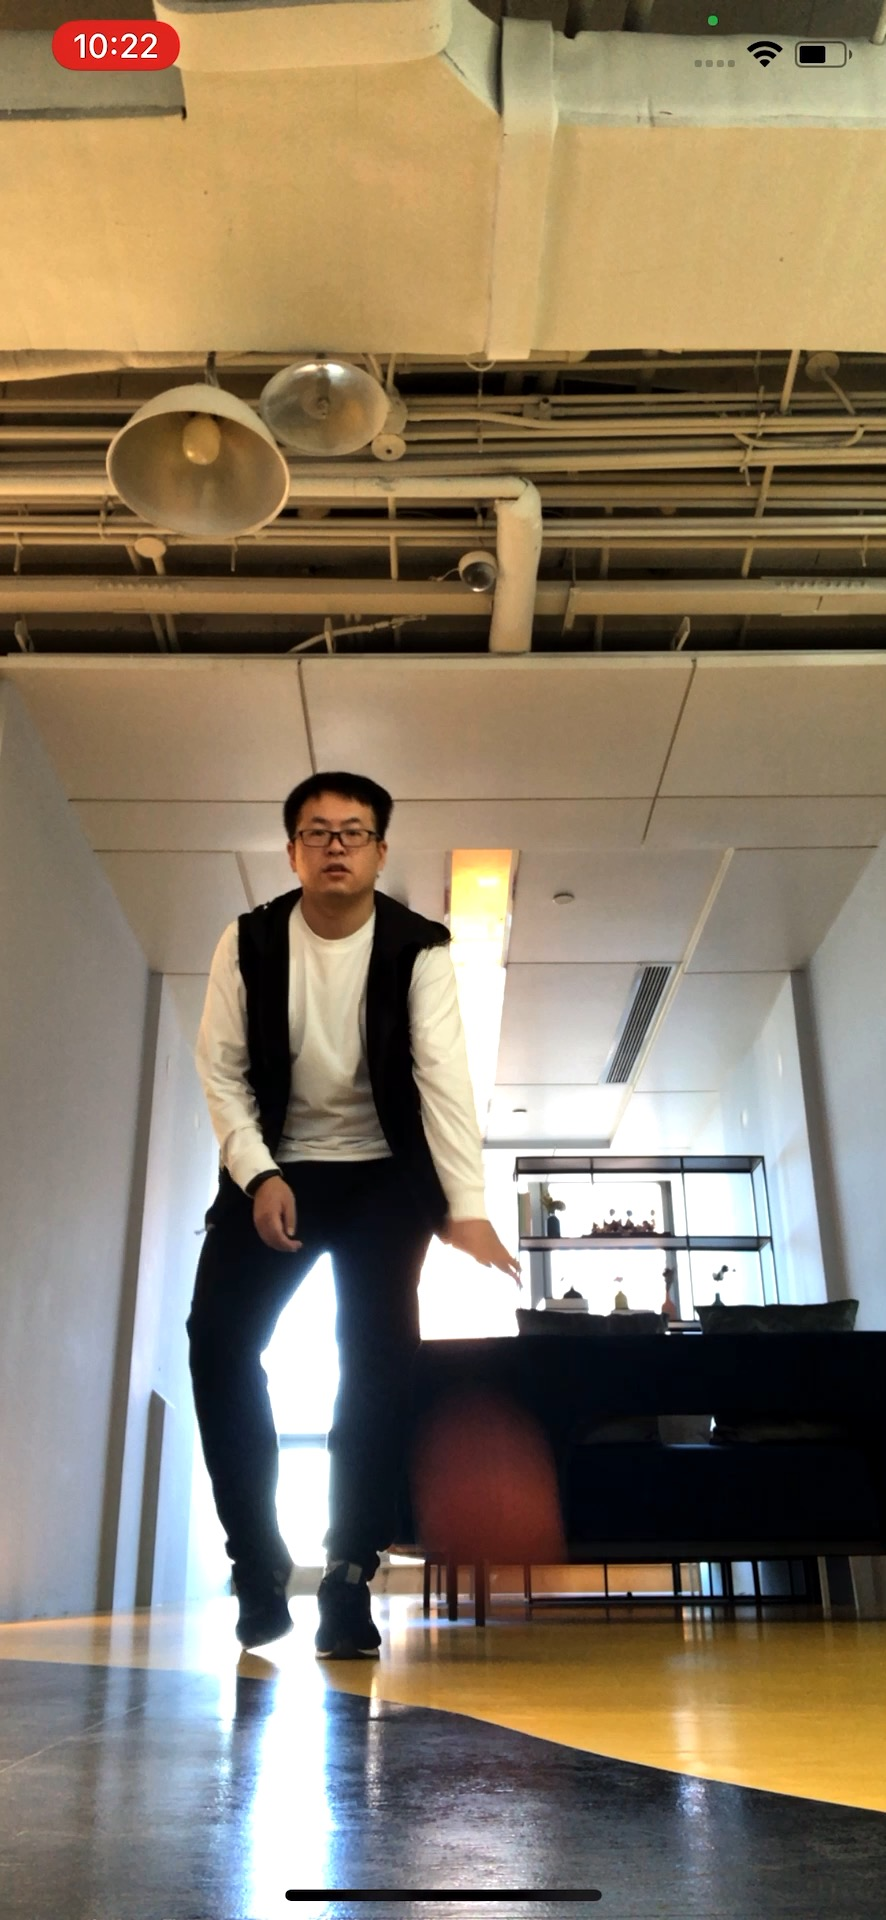ball: (425, 1439, 563, 1576)
